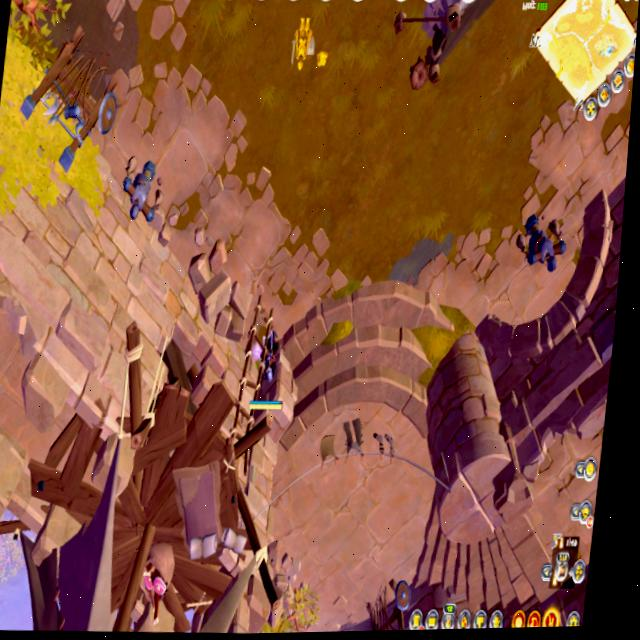red: (243, 319, 293, 417)
